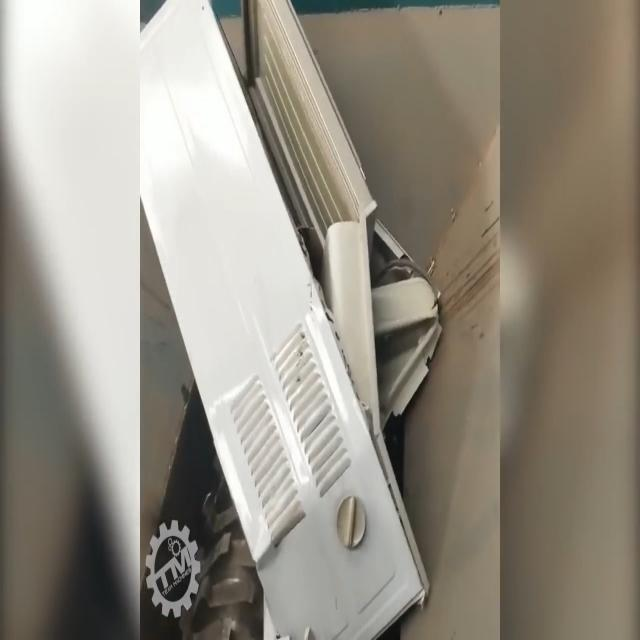Broyeur: (149, 419, 276, 640)
